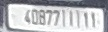0: (31, 9, 38, 25)
1: (90, 11, 97, 29), (84, 12, 89, 29)
4: (24, 9, 31, 25)
7: (45, 9, 53, 26), (53, 9, 60, 26)
8: (38, 10, 46, 26)
a: (68, 10, 75, 28)
